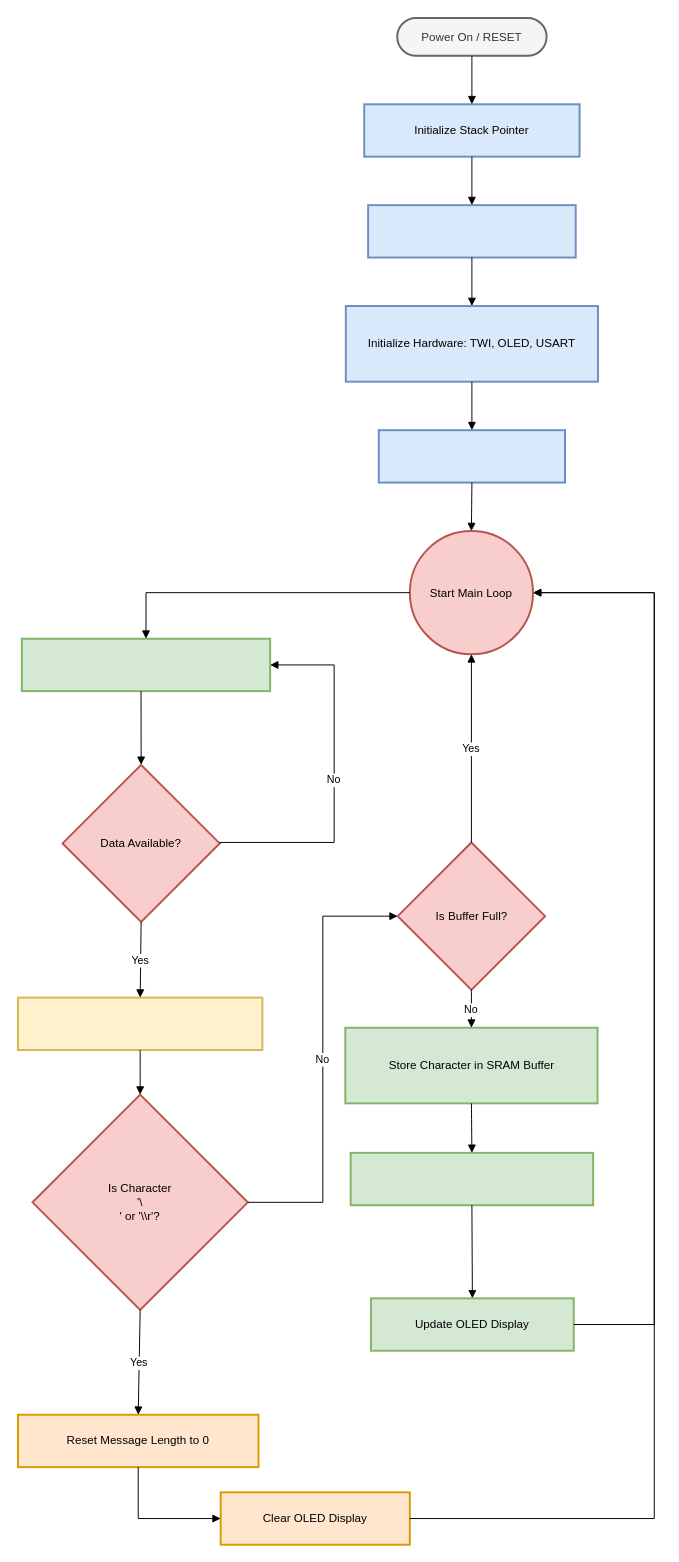
The diagram is 679 pixels wide and 1562 high, and some of its shapes have lost their labels. The shapes that lost their labels are listed below. From the top down, each one's centre as x and y in pixels, then its label:
At point (471, 231): "Clear Message Length".
At point (471, 456): "Display 'Waiting...'".
At point (145, 664): "Read USART Status Register".
At point (139, 1023): "Read Character from UDR0".
At point (471, 1178): "Increment Message Length".
